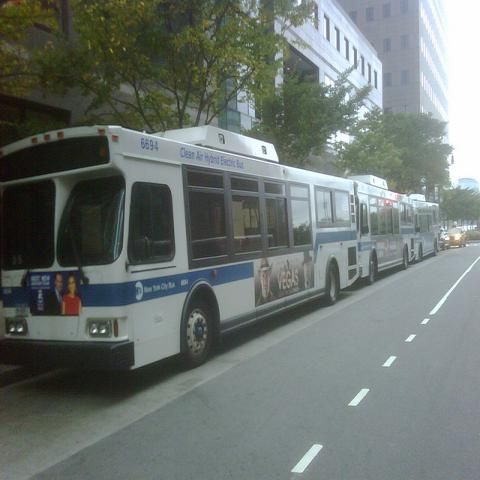bus: (1, 123, 443, 374)
car: (446, 227, 466, 248), (440, 229, 450, 251)
